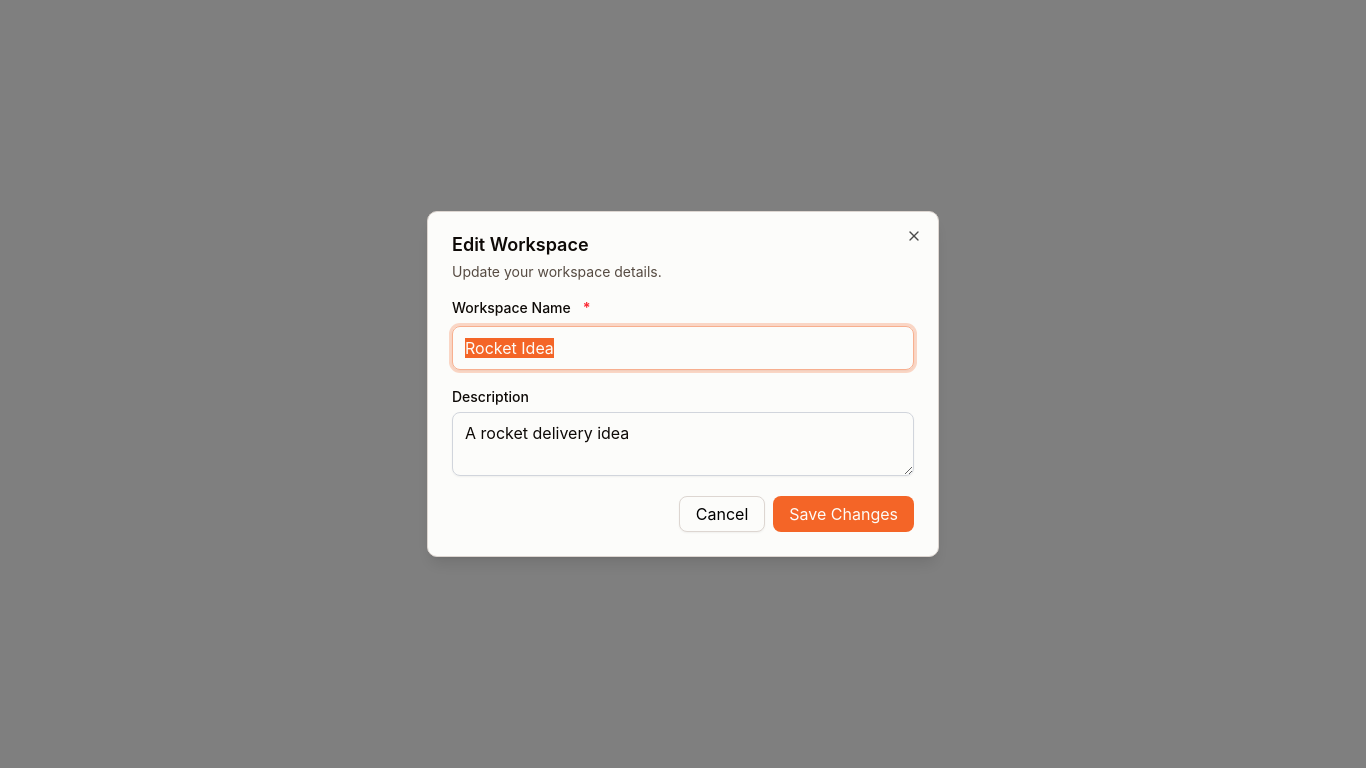
EditWorkspaceDialog › disables the save button when the name is cleared
Clear the field labelled "Workspace Name": (683, 348) [452,326,914,370]
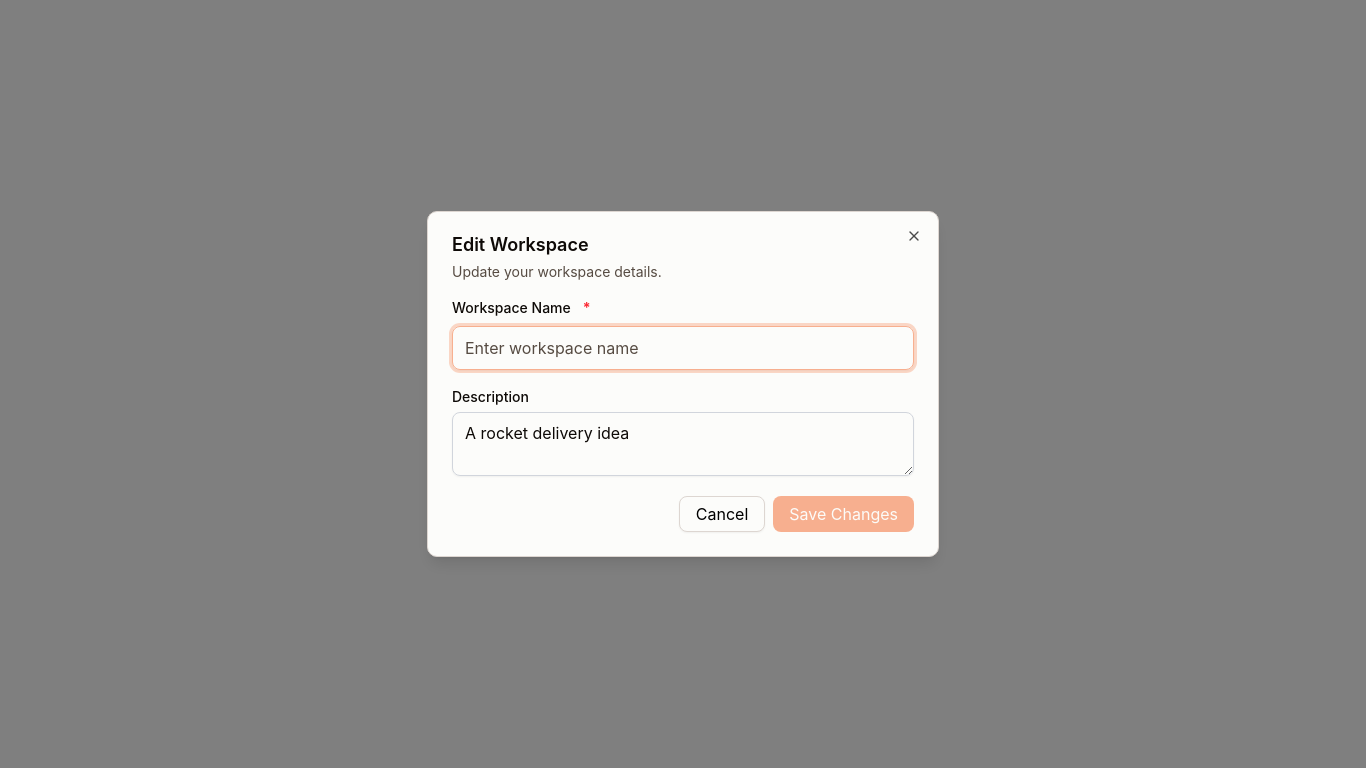
Now the button "Save Changes" is disabled, box [773,496,914,532]
